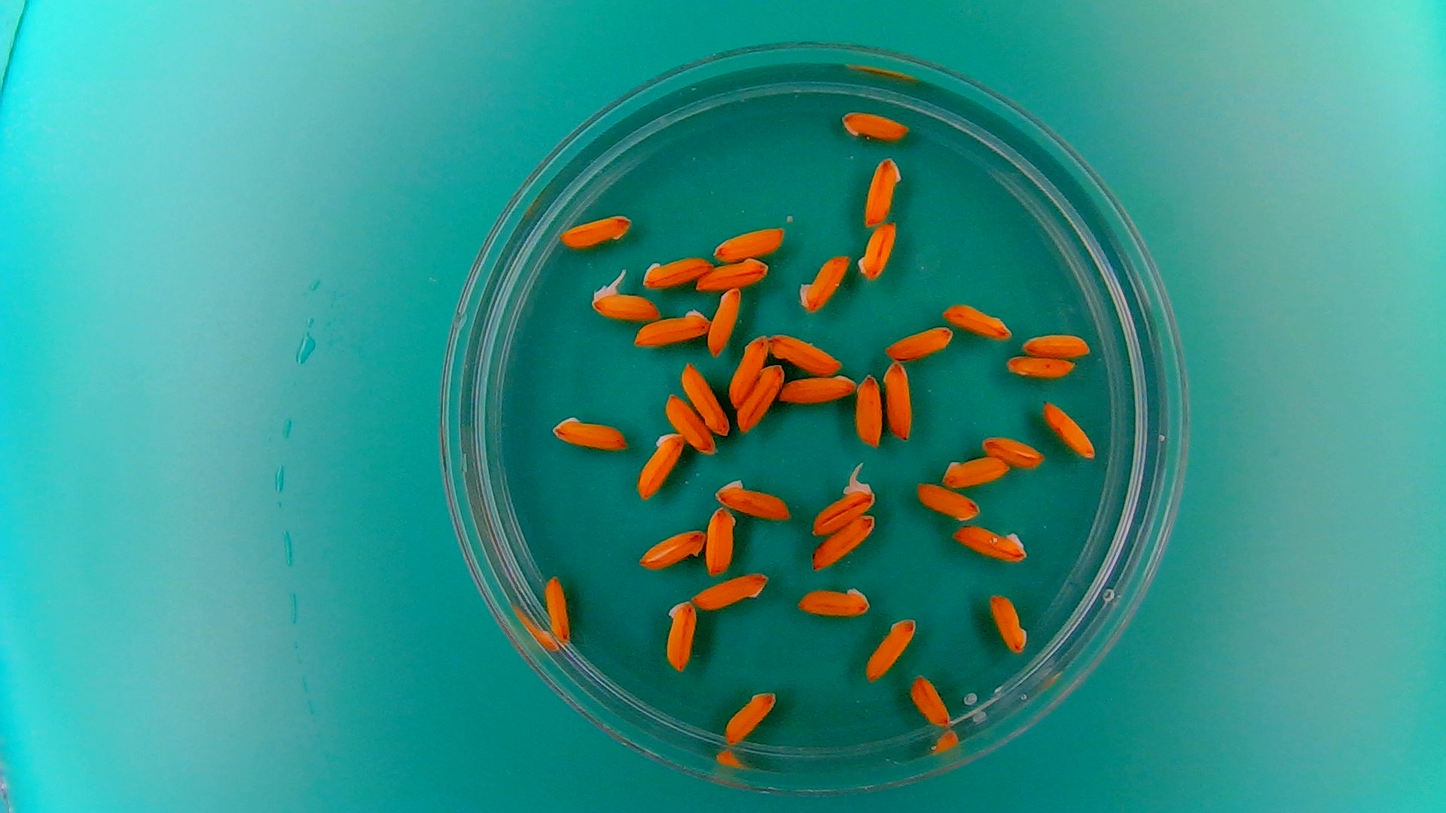no: (679, 360, 731, 439), (810, 513, 877, 574), (863, 612, 919, 684), (712, 474, 795, 521), (1039, 397, 1099, 462), (633, 428, 685, 501), (735, 361, 786, 435), (766, 329, 844, 376), (662, 390, 717, 455), (796, 251, 852, 314), (690, 570, 770, 614), (548, 410, 631, 452), (631, 306, 712, 349), (950, 522, 1030, 565), (721, 687, 778, 746), (635, 526, 707, 572), (940, 300, 1017, 343), (726, 333, 770, 408), (861, 153, 905, 226), (711, 221, 789, 262), (558, 210, 634, 249), (639, 251, 714, 290), (882, 358, 916, 443), (794, 583, 874, 619), (913, 480, 981, 522), (988, 589, 1030, 656), (882, 323, 955, 361), (855, 219, 899, 282), (694, 255, 770, 291), (706, 283, 743, 356), (663, 596, 698, 673), (702, 504, 737, 579), (778, 372, 857, 405), (939, 454, 1011, 489), (539, 570, 573, 644), (979, 433, 1047, 470), (909, 671, 952, 729), (838, 108, 911, 142), (853, 370, 883, 448), (1019, 328, 1093, 358), (1003, 353, 1076, 380)
yes: (810, 476, 879, 536), (590, 284, 663, 321)
